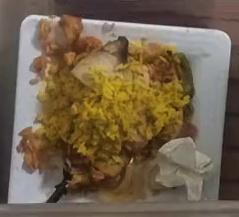rice: (34, 34, 192, 182)
